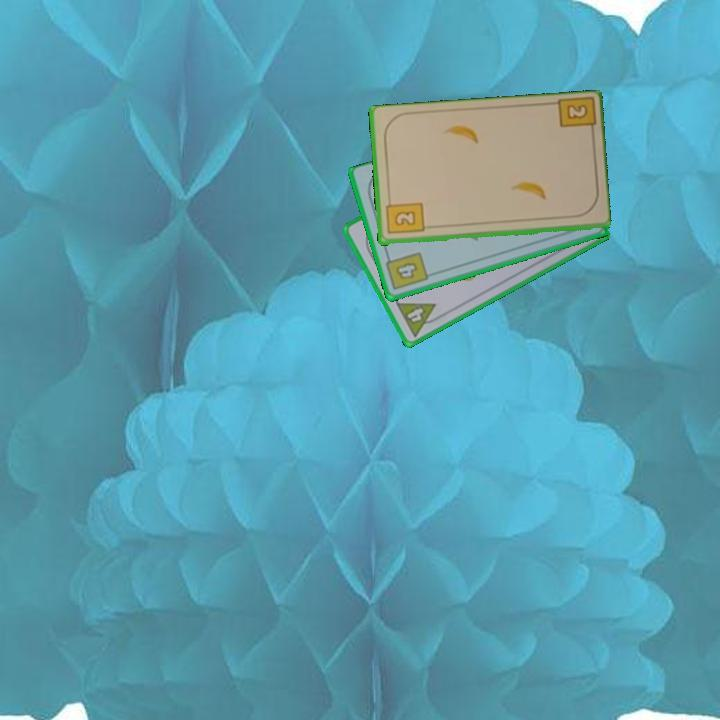2b: (552, 95, 597, 140), (382, 195, 426, 237)
4b: (382, 249, 431, 293)
4p: (392, 299, 445, 340)
